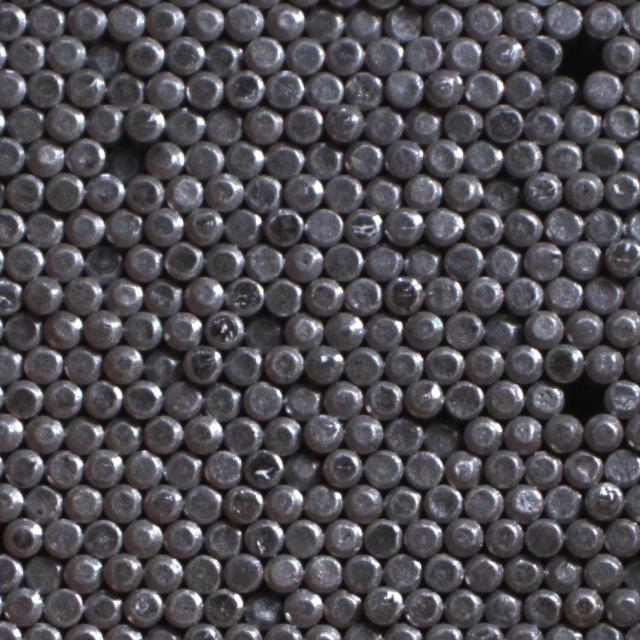tool: (2, 582, 42, 624), (324, 101, 364, 142), (102, 550, 142, 591), (202, 447, 242, 487), (344, 344, 384, 384), (143, 205, 183, 245), (163, 585, 203, 625), (563, 447, 603, 487), (444, 378, 484, 418), (443, 514, 483, 554), (282, 586, 322, 626), (542, 410, 582, 450), (162, 308, 202, 348), (182, 344, 222, 384), (3, 447, 43, 487), (162, 240, 202, 280), (184, 274, 224, 314), (324, 240, 364, 280), (325, 308, 365, 348), (382, 550, 422, 590), (563, 584, 603, 624), (263, 205, 303, 245), (205, 306, 245, 346), (364, 377, 403, 418), (322, 447, 362, 486), (225, 550, 264, 590), (504, 552, 543, 592), (224, 67, 264, 106), (123, 378, 162, 418), (223, 344, 262, 384), (404, 376, 443, 416), (65, 206, 104, 246), (424, 343, 464, 382), (382, 205, 422, 244), (424, 550, 463, 590), (543, 204, 583, 243), (143, 480, 182, 520), (23, 273, 62, 313), (403, 585, 442, 625), (124, 586, 163, 626), (363, 584, 402, 624), (224, 482, 263, 522), (44, 584, 83, 624), (125, 171, 164, 211), (364, 103, 404, 142), (63, 550, 102, 590), (242, 378, 282, 417), (483, 448, 522, 488), (125, 102, 164, 142), (423, 479, 462, 519), (344, 68, 384, 107), (185, 68, 224, 108), (144, 550, 183, 590), (442, 103, 482, 142), (384, 67, 424, 106), (244, 32, 284, 71), (82, 307, 121, 347), (83, 585, 122, 625), (85, 100, 124, 140), (264, 276, 303, 316), (564, 308, 604, 347), (182, 482, 222, 521), (523, 239, 562, 279), (25, 136, 64, 176), (383, 136, 422, 176), (483, 516, 522, 556), (182, 412, 222, 451), (43, 514, 82, 554), (2, 514, 41, 554), (184, 553, 223, 593), (323, 515, 362, 555), (283, 516, 322, 556), (384, 273, 423, 313), (263, 412, 302, 452), (363, 514, 402, 554), (64, 135, 104, 174), (344, 411, 384, 450), (106, 69, 145, 109), (144, 137, 183, 177), (202, 380, 241, 420), (583, 134, 622, 174), (6, 376, 45, 416), (584, 478, 622, 519), (403, 171, 442, 210), (424, 205, 463, 244), (524, 305, 563, 344), (45, 101, 84, 140), (403, 447, 442, 486), (464, 552, 503, 591), (23, 482, 62, 521), (443, 170, 482, 209), (45, 171, 84, 210), (303, 411, 342, 450), (66, 66, 105, 105), (504, 273, 543, 312), (523, 169, 562, 208), (84, 447, 123, 486), (404, 307, 443, 346), (464, 68, 503, 107), (305, 69, 344, 108), (303, 204, 342, 243), (43, 308, 82, 347), (344, 274, 383, 313), (184, 205, 223, 244), (325, 172, 364, 211), (243, 517, 282, 556), (424, 273, 463, 312), (265, 67, 304, 106), (162, 448, 201, 487), (463, 481, 502, 520), (264, 551, 303, 590), (146, 69, 185, 108), (364, 448, 403, 487), (323, 379, 362, 418), (123, 309, 162, 348), (125, 34, 164, 73), (403, 516, 442, 555), (383, 344, 422, 383), (601, 33, 640, 72), (102, 344, 141, 383), (523, 32, 562, 71), (225, 138, 264, 177), (165, 34, 204, 73), (304, 140, 343, 179), (485, 102, 524, 141), (7, 33, 46, 72), (284, 309, 323, 348), (342, 551, 381, 590), (443, 585, 482, 624), (543, 553, 582, 592), (343, 205, 382, 244), (163, 517, 202, 556), (424, 136, 463, 175), (3, 240, 42, 279), (463, 413, 502, 452), (142, 412, 181, 451), (563, 516, 602, 555), (583, 343, 622, 382), (223, 413, 262, 452), (304, 344, 343, 383), (204, 242, 243, 281), (543, 343, 582, 382), (64, 481, 102, 521), (62, 344, 100, 384), (304, 274, 342, 314), (265, 481, 303, 521), (44, 377, 82, 417), (104, 206, 142, 246), (86, 171, 124, 211), (485, 376, 523, 416), (344, 138, 382, 178), (583, 550, 621, 590), (524, 102, 562, 142), (103, 481, 141, 521), (284, 102, 322, 142), (6, 170, 44, 210), (124, 516, 162, 556), (502, 137, 542, 175), (84, 378, 122, 418), (45, 240, 83, 280), (84, 517, 122, 557), (284, 172, 324, 210), (285, 240, 323, 280), (224, 276, 264, 314), (224, 205, 262, 244), (26, 68, 64, 107), (544, 480, 582, 519), (25, 207, 63, 246), (502, 207, 540, 246), (24, 343, 62, 382), (225, 0, 263, 39), (45, 447, 83, 486), (244, 105, 282, 144), (304, 551, 342, 590), (204, 105, 242, 144), (545, 273, 583, 312), (504, 342, 542, 381), (426, 66, 464, 105), (2, 309, 41, 347), (163, 378, 201, 417), (343, 482, 382, 520), (185, 1, 224, 39), (523, 586, 561, 625), (165, 104, 203, 143), (26, 1, 64, 40), (146, 0, 184, 39), (444, 308, 482, 347), (203, 519, 241, 558), (166, 171, 204, 210), (506, 479, 544, 518), (465, 343, 503, 382), (443, 241, 482, 279), (482, 587, 521, 625), (47, 33, 86, 71), (143, 275, 182, 313), (464, 205, 502, 244), (64, 274, 102, 313), (264, 343, 302, 382), (264, 140, 302, 179), (105, 1, 143, 40), (445, 33, 484, 71), (266, 0, 304, 39), (364, 310, 403, 348), (524, 515, 562, 554), (504, 412, 542, 451), (365, 33, 403, 72), (104, 274, 142, 313), (185, 139, 223, 178), (23, 552, 62, 590), (563, 238, 602, 276), (384, 415, 423, 453), (404, 104, 442, 143), (384, 482, 422, 521), (482, 173, 520, 212), (141, 346, 180, 384), (84, 246, 123, 284), (584, 206, 622, 245), (245, 450, 284, 488), (384, 1, 422, 40), (203, 589, 242, 627), (582, 69, 620, 107), (303, 482, 341, 520), (503, 68, 541, 106), (124, 447, 162, 485), (403, 242, 441, 280), (525, 378, 563, 416), (67, 0, 105, 38), (322, 586, 360, 624), (524, 447, 562, 485), (584, 274, 622, 312), (124, 242, 162, 280), (484, 32, 522, 70), (562, 102, 600, 140), (482, 242, 520, 280), (245, 242, 283, 280), (25, 413, 63, 451), (244, 172, 282, 210), (583, 0, 621, 38), (564, 170, 602, 208), (543, 137, 581, 175), (365, 242, 403, 280), (465, 274, 503, 312), (326, 34, 364, 72), (64, 414, 102, 452), (602, 516, 640, 554), (364, 174, 402, 212), (5, 102, 43, 140), (482, 310, 520, 348), (464, 138, 502, 176), (285, 35, 323, 73), (204, 36, 242, 74), (304, 3, 342, 41), (563, 32, 601, 70), (104, 142, 142, 180), (205, 171, 242, 210), (583, 412, 622, 449), (604, 168, 640, 208), (603, 446, 640, 484), (544, 0, 582, 37), (603, 101, 640, 139), (424, 1, 462, 38), (504, 0, 542, 37), (404, 33, 442, 70), (464, 1, 502, 38), (344, 3, 382, 40), (103, 415, 141, 452), (445, 448, 483, 485), (541, 71, 579, 108), (244, 588, 282, 625), (283, 380, 320, 418), (283, 448, 320, 486), (422, 418, 459, 456), (245, 311, 282, 349), (564, 375, 601, 413), (605, 584, 640, 624), (86, 38, 123, 75), (605, 306, 640, 345), (605, 376, 640, 414), (605, 237, 640, 274), (0, 66, 26, 105), (0, 134, 25, 174), (0, 206, 25, 246), (0, 0, 25, 39), (0, 480, 23, 520), (0, 550, 23, 590), (0, 410, 23, 450), (0, 344, 23, 383), (0, 275, 23, 314), (22, 619, 61, 640), (342, 620, 382, 640), (222, 620, 262, 640), (464, 620, 504, 640), (423, 620, 462, 640), (504, 620, 542, 640), (583, 620, 621, 640), (63, 621, 102, 640), (381, 621, 420, 640), (263, 621, 302, 640), (302, 621, 340, 640), (622, 67, 640, 106), (103, 622, 142, 640), (182, 622, 221, 640), (544, 622, 582, 640), (622, 555, 640, 592), (623, 481, 640, 520), (142, 623, 180, 640), (623, 136, 640, 173), (623, 0, 640, 36)
